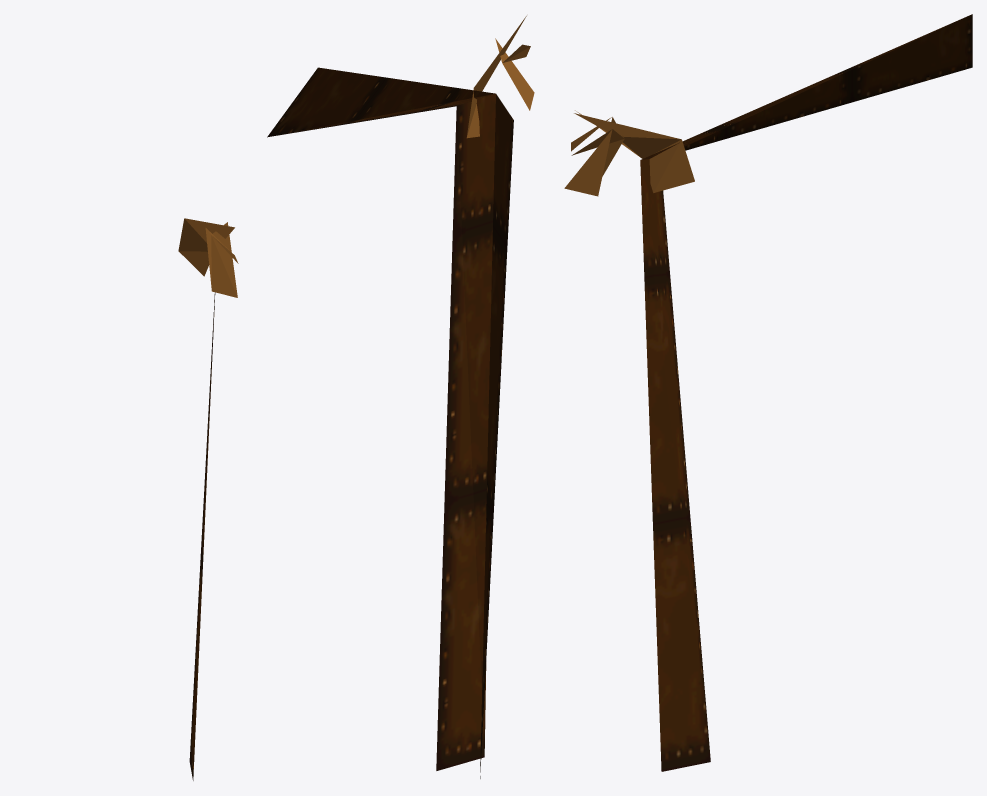
File: Stütze_Winkel1_890.glb
The picture shows the model from 3 angles, left to right: view 1: azimuth 30°, elevation 25°; view 2: azimuth 150°, elevation 25°; view 3: azimuth 270°, elevation 25°; orthographic projection. The views are drawn at different scales.
Parts seen in each view (by area): view 1: pPlaneShape66, pPlaneShape53, pPlaneShape65; view 2: pPlaneShape53, pPlaneShape66, pPlaneShape65; view 3: pPlaneShape53, pPlaneShape65, pPlaneShape66.
Boxes of the visible parts, x1,y1,x2,y2 form: pPlaneShape66: [205, 222, 238, 297]; pPlaneShape53: [189, 292, 215, 780]; pPlaneShape65: [178, 218, 234, 276]; pPlaneShape53: [267, 67, 513, 778]; pPlaneShape66: [495, 38, 534, 110]; pPlaneShape65: [466, 16, 526, 138]; pPlaneShape53: [640, 14, 972, 771]; pPlaneShape65: [574, 110, 694, 192]; pPlaneShape66: [564, 117, 624, 196].
Bounding box in the file's own units: 0.0975 × 0.7416 × 0.3622.
Materials: 3 (1 with a texture image).
